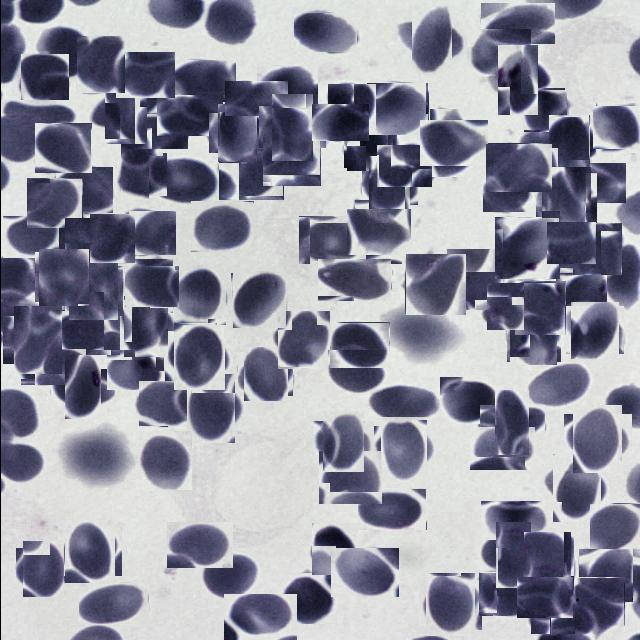red blood cell: (494, 217, 559, 279), (404, 253, 466, 314), (180, 378, 240, 438), (168, 327, 228, 386), (546, 458, 604, 518), (444, 250, 504, 308), (8, 310, 66, 370), (318, 450, 382, 504), (568, 409, 626, 468), (522, 362, 593, 410), (218, 148, 283, 200), (96, 78, 154, 136), (223, 594, 296, 640), (330, 548, 398, 597), (61, 522, 118, 580), (424, 114, 481, 172), (135, 431, 191, 490), (366, 82, 428, 135), (485, 143, 552, 192), (298, 216, 366, 264), (422, 576, 478, 634), (190, 201, 253, 252), (317, 258, 391, 301), (375, 421, 431, 477), (172, 268, 228, 324), (230, 272, 286, 328), (350, 204, 406, 260), (488, 52, 544, 108), (148, 156, 214, 203), (275, 312, 330, 368), (538, 170, 593, 226), (479, 3, 554, 44), (466, 29, 530, 77), (367, 384, 440, 426), (166, 522, 232, 568), (404, 12, 458, 68), (199, 552, 260, 601), (264, 100, 319, 154), (278, 573, 336, 624), (356, 488, 426, 530), (78, 582, 148, 624), (55, 310, 120, 355), (66, 264, 120, 318), (36, 250, 90, 304), (469, 426, 535, 470), (262, 136, 320, 186), (553, 163, 625, 203), (439, 377, 500, 424), (578, 549, 632, 602), (167, 60, 235, 102), (34, 123, 91, 173), (574, 577, 624, 634), (119, 300, 172, 353), (329, 322, 389, 368), (514, 282, 565, 336), (26, 178, 81, 228), (76, 36, 124, 93), (254, 66, 316, 110), (115, 52, 174, 98), (156, 95, 222, 136), (316, 416, 368, 468), (568, 304, 620, 356), (138, 380, 194, 427), (55, 167, 112, 213), (480, 501, 547, 540), (487, 530, 539, 580), (2, 216, 63, 258), (293, 12, 357, 52), (530, 594, 594, 634), (508, 312, 558, 363), (35, 28, 86, 78), (60, 222, 111, 272), (572, 223, 621, 275), (478, 572, 535, 616), (18, 544, 68, 594), (240, 349, 290, 399), (344, 120, 394, 170), (486, 398, 536, 448), (57, 362, 107, 412), (522, 534, 572, 584), (327, 350, 386, 392), (309, 524, 358, 574), (544, 118, 593, 168), (212, 109, 262, 158), (120, 114, 188, 150), (555, 273, 606, 321), (20, 348, 86, 385), (376, 144, 432, 187), (516, 576, 573, 618), (106, 349, 164, 390), (364, 160, 413, 208), (589, 503, 640, 549), (127, 262, 175, 310), (20, 54, 68, 100), (89, 214, 134, 263), (224, 81, 286, 116), (118, 151, 164, 198), (328, 82, 373, 130), (594, 105, 640, 151), (548, 220, 594, 266), (311, 104, 368, 141), (128, 211, 175, 255), (482, 174, 530, 212), (483, 286, 526, 328), (522, 89, 564, 131)
